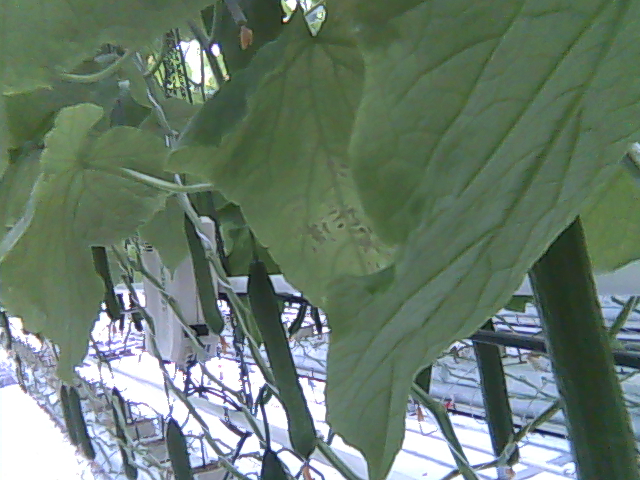concombre: (526, 214, 638, 480), (242, 254, 324, 480)
